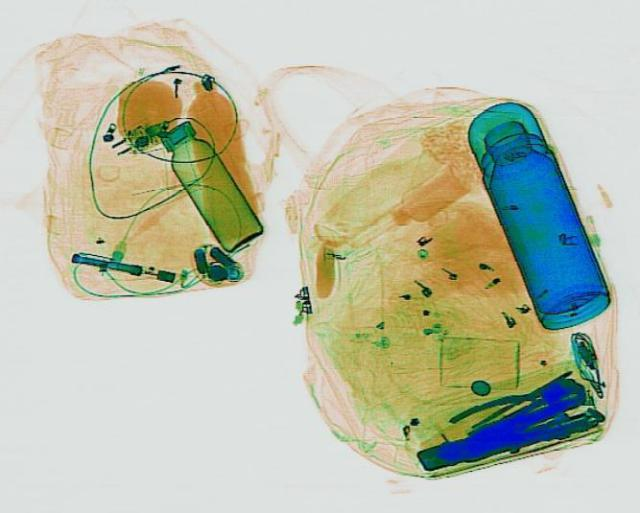Pliers: (442, 391, 598, 470), (445, 368, 585, 435)
